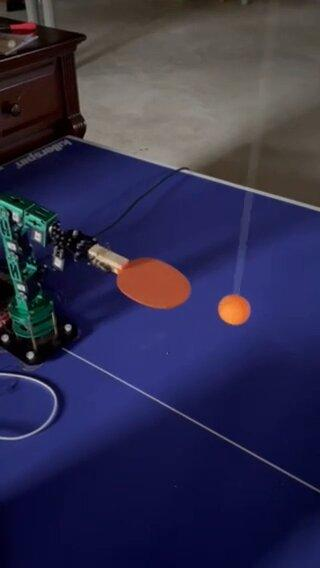oball: (216, 293, 250, 324)
